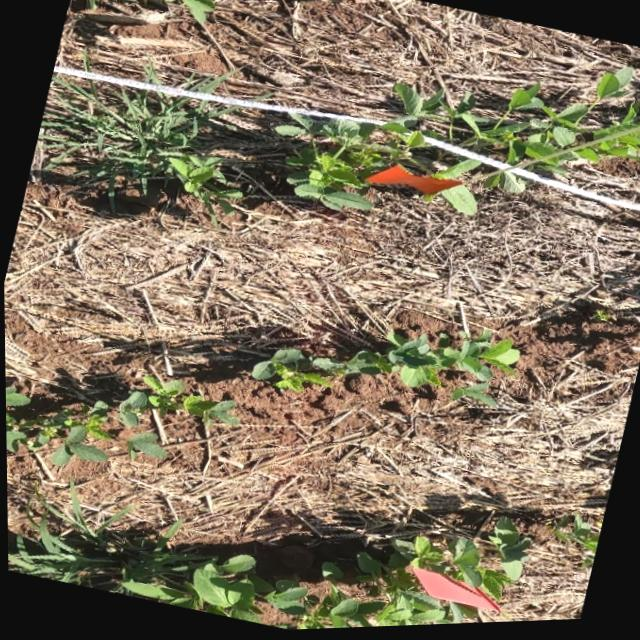grassy_weed: (36, 74, 242, 214), (6, 486, 198, 597)
soy_plant: (276, 70, 640, 218), (121, 519, 530, 632), (4, 375, 237, 464), (251, 335, 517, 408), (551, 520, 598, 573)
